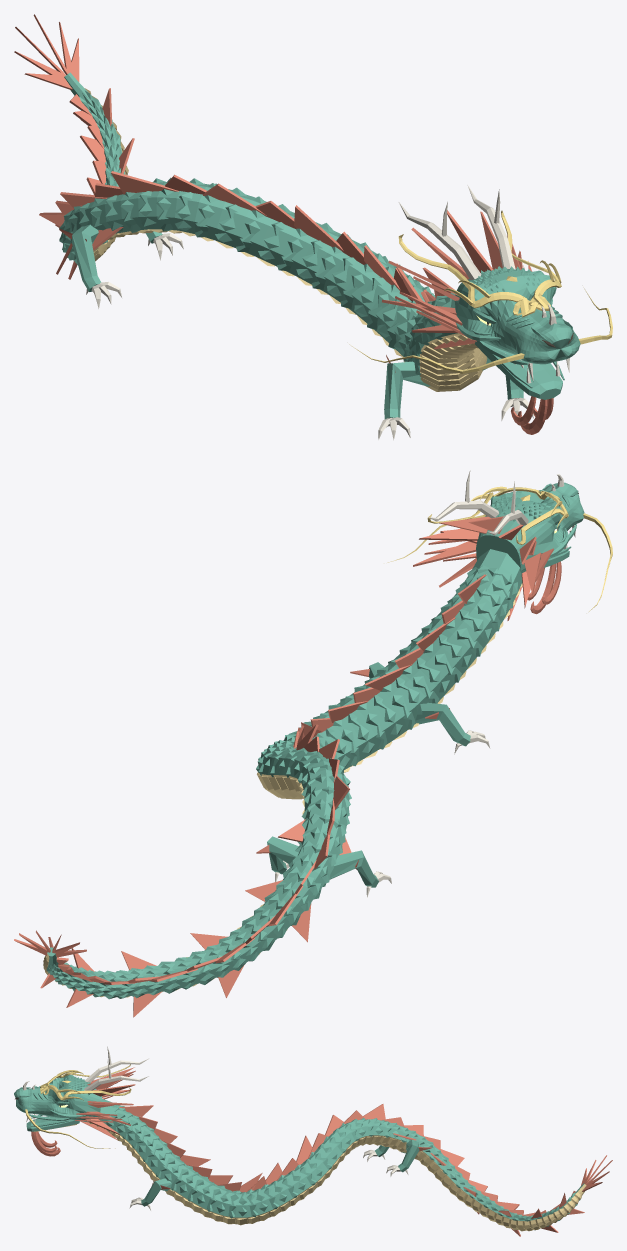
File: Dragon_Long_v8.glb
The picture shows the model from 3 angles, top to bottom: view 1: azimuth 30°, elevation 25°; view 2: azimuth 150°, elevation 25°; view 3: azimuth 270°, elevation 25°; orthographic projection. The views are drawn at different scales.
Parts seen in each view (by area): view 1: Body, Fins, Horns, Belly, Whiskers; view 2: Body, Fins, Horns, Whiskers, Belly; view 3: Body, Fins, Belly, Horns, Whiskers.
Part boxes in pixels (box(x1,y1,x2,y2)): Body: box(59, 72, 580, 419); Fins: box(14, 14, 553, 434); Horns: box(86, 185, 569, 440); Belly: box(84, 88, 487, 391); Whiskers: box(349, 210, 612, 373); Body: box(46, 482, 584, 999); Fins: box(14, 516, 561, 1017); Horns: box(275, 470, 575, 897); Whiskers: box(387, 486, 612, 611); Belly: box(43, 583, 522, 997); Body: box(14, 1075, 584, 1230); Fins: box(31, 1067, 612, 1236); Belly: box(34, 1122, 586, 1231); Horns: box(22, 1046, 408, 1210); Whiskers: box(25, 1064, 131, 1148).
Size of the model in its own units: 14.48 by 19.17 by 58.01.
